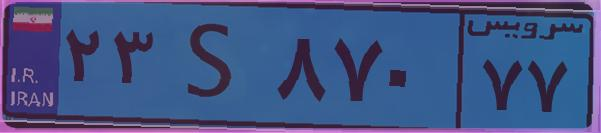0: (385, 28, 445, 110)
2: (57, 26, 110, 100)
3: (110, 28, 158, 98)
7: (330, 28, 385, 110), (475, 38, 525, 113), (525, 38, 570, 115)
8: (270, 28, 330, 110)
S: (158, 12, 270, 120)
